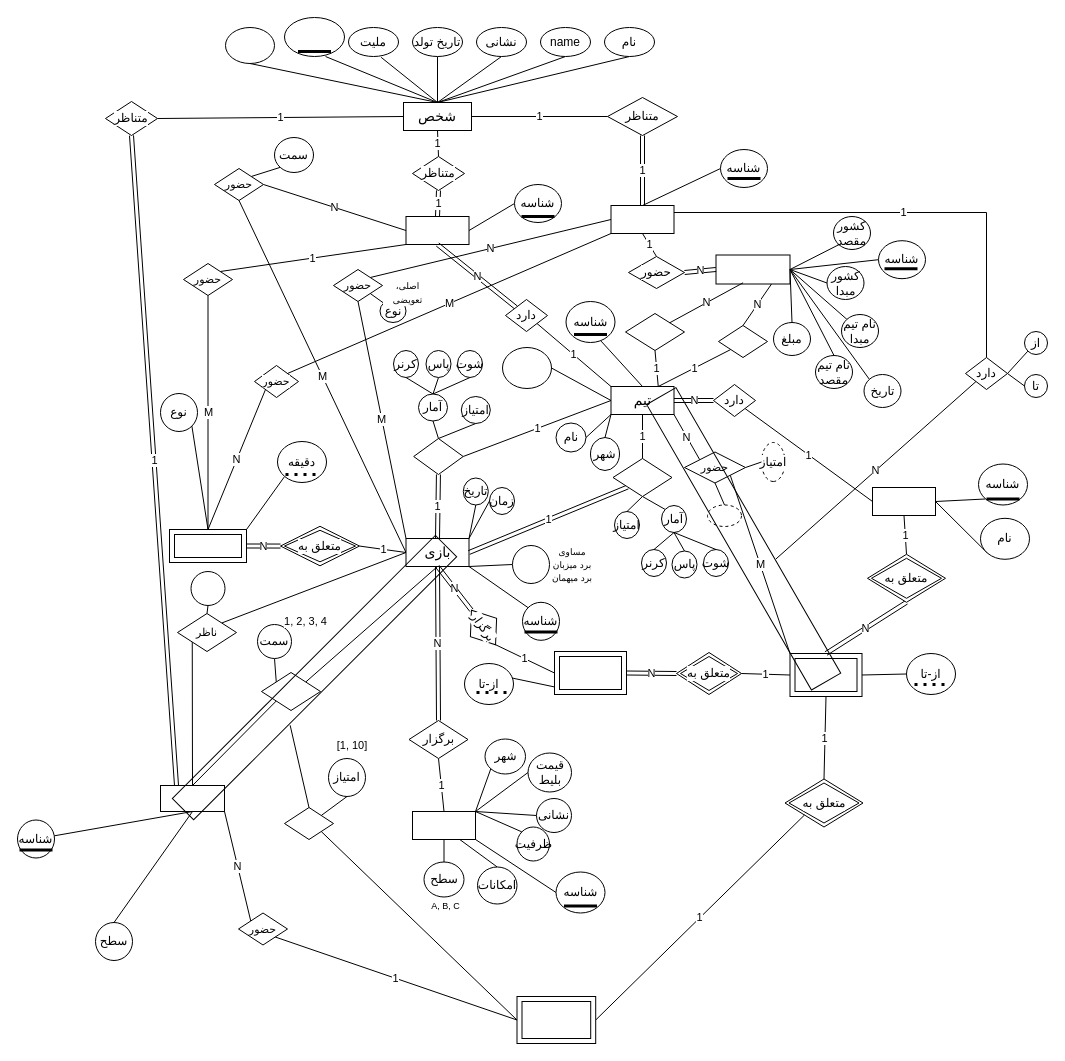
Some shapes in this 1065 by 1061 pixel diagram are drawn without their labels. The shapes that lost their labels are listed below. From the top down, each one's centre as x and y in pixels, then its label:
the point at 249,45: تاریخ عضویت
the point at 314,36: شماره ملی
the point at 437,230: کادر
the point at 642,219: بازیکن
the point at 752,269: نقل و انتقال
the point at 654,331: فروشنده
the point at 743,341: خریدار
the point at 527,367: تاریخ تاسسیس
the point at 438,456: میهمان
the point at 642,477: میزبان
the point at 724,515: رتبه
the point at 904,501: لیگ
the point at 207,545: رخداد
the point at 531,564: نتیجه
the point at 207,588: شرح
the point at 290,691: داوری
the point at 590,672: هفته بازی
the point at 825,674: فصل
the point at 192,798: داور
the point at 444,825: ورزشگاه
the point at 556,1020: کمیته داوران
